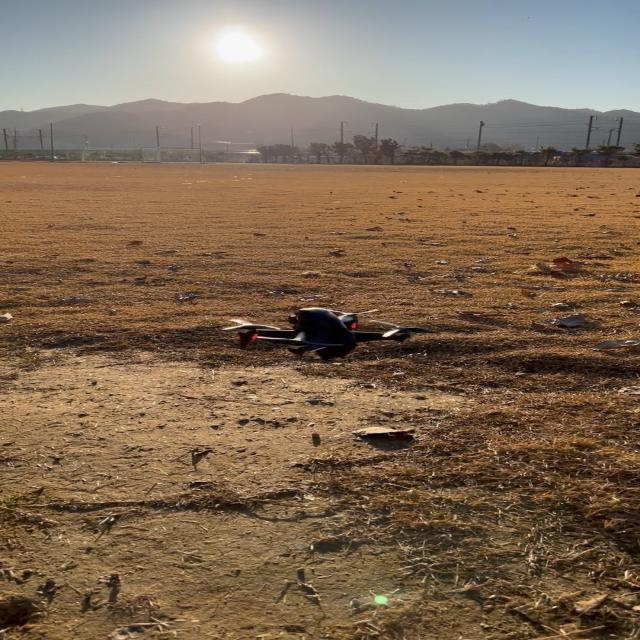Drone: (238, 307, 417, 358)
